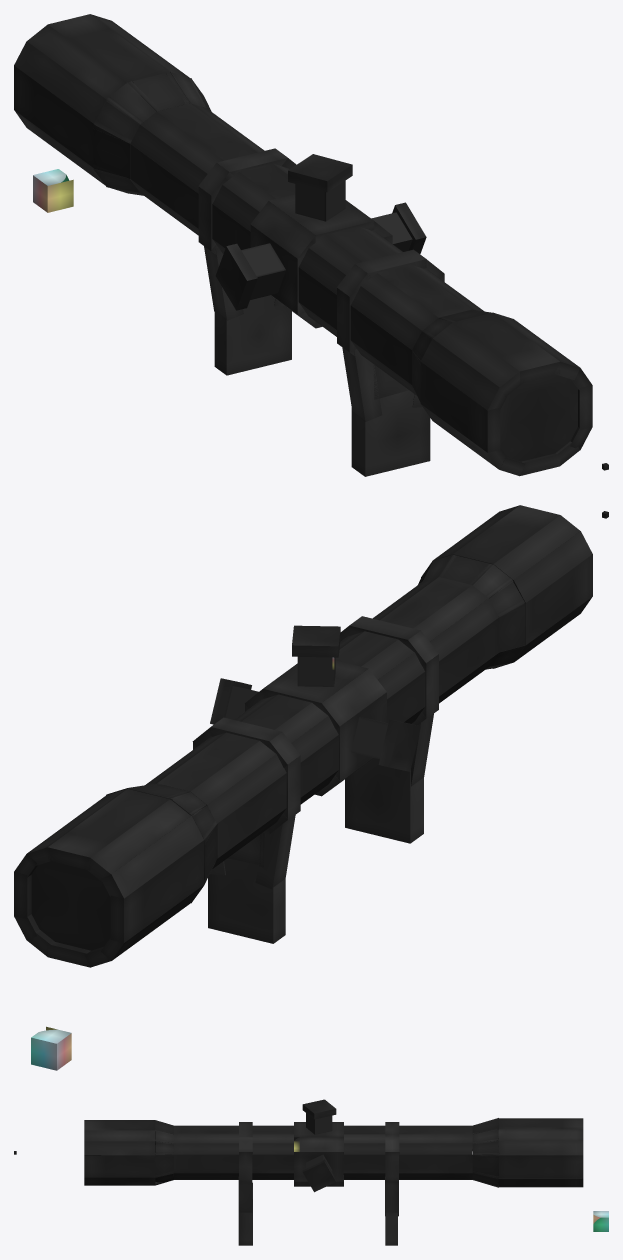
File: j_schmitbender.geo.fbx
3 views of the same model, one above another, from view 1: azimuth 30°, elevation 25°; view 2: azimuth 150°, elevation 25°; view 3: azimuth 270°, elevation 25° (orthographic). The views are drawn at different scales.
Visible parts, largest first — view 1: specter16, specter, specter20, specter18, scopepip, specter17, specter8, specter14, specter2, specter9, _ca_scope, bone4 (+2 smaller); view 2: specter, specter16, specter18, specter20, specter8, specter14, specter2, specter15, _ca_scope, specter9, specter17; view 3: specter16, specter18, specter, specter20, specter17, specter7, specter2, specter15, specter9, bone7, _ca_scope, bone12.
Part boxes in pixels (left/top/right/bottom): specter16: left=130, top=103, right=484, bottom=395; specter: left=198, top=148, right=444, bottom=476; specter20: left=420, top=312, right=592, bottom=476; specter18: left=14, top=14, right=188, bottom=185; scopepip: left=500, top=375, right=577, bottom=461; specter17: left=93, top=71, right=206, bottom=195; specter8: left=204, top=246, right=408, bottom=421; specter14: left=215, top=243, right=285, bottom=310; specter2: left=288, top=154, right=352, bottom=221; specter9: left=371, top=202, right=426, bottom=253; _ca_scope: left=33, top=169, right=73, bottom=212; bone4: left=94, top=100, right=139, bottom=143; specter: left=31, top=616, right=438, bottom=950; specter16: left=145, top=577, right=499, bottom=868; specter18: left=14, top=789, right=203, bottom=967; specter20: left=421, top=505, right=592, bottom=668; specter8: left=255, top=713, right=433, bottom=889; specter14: left=351, top=717, right=420, bottom=771; specter2: left=292, top=625, right=340, bottom=686; specter15: left=422, top=554, right=525, bottom=669; _ca_scope: left=31, top=1026, right=71, bottom=1070; specter9: left=210, top=678, right=258, bottom=724; specter17: left=107, top=783, right=216, bottom=884; specter16: left=174, top=1125, right=472, bottom=1179; specter18: left=498, top=1118, right=583, bottom=1187; specter: left=238, top=1122, right=399, bottom=1245; specter20: left=84, top=1120, right=155, bottom=1185; specter17: left=472, top=1118, right=498, bottom=1187; specter7: left=238, top=1177, right=398, bottom=1216; specter2: left=302, top=1099, right=336, bottom=1134; specter15: left=155, top=1120, right=173, bottom=1185; specter9: left=302, top=1154, right=336, bottom=1192; bone7: left=472, top=1140, right=499, bottom=1154; _ca_scope: left=593, top=1211, right=608, bottom=1231; bone12: left=155, top=1141, right=173, bottom=1154.
Size of the model in its own units: 43.52 by 56.98 by 236.
Materials: 1 (1 with a texture image).
